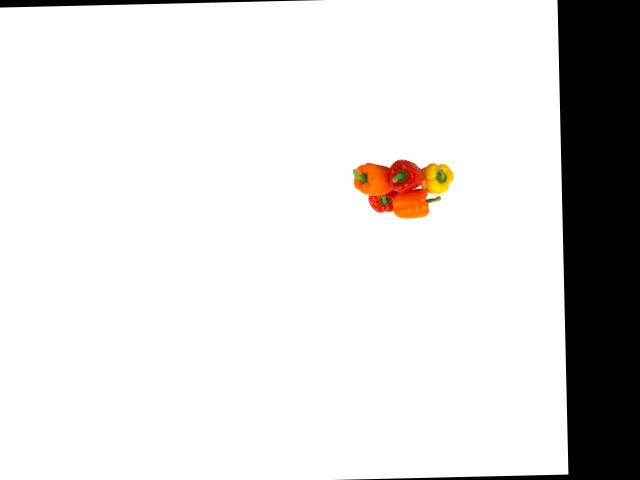bell_pepper: (344, 159, 394, 199)
